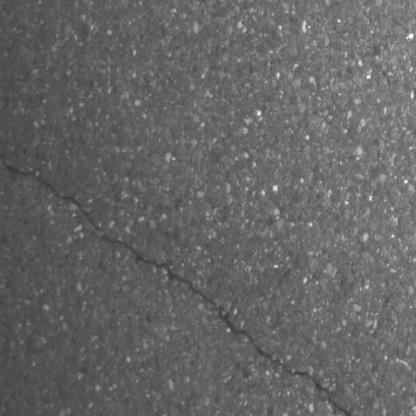Cracks: (0, 141, 395, 416)
